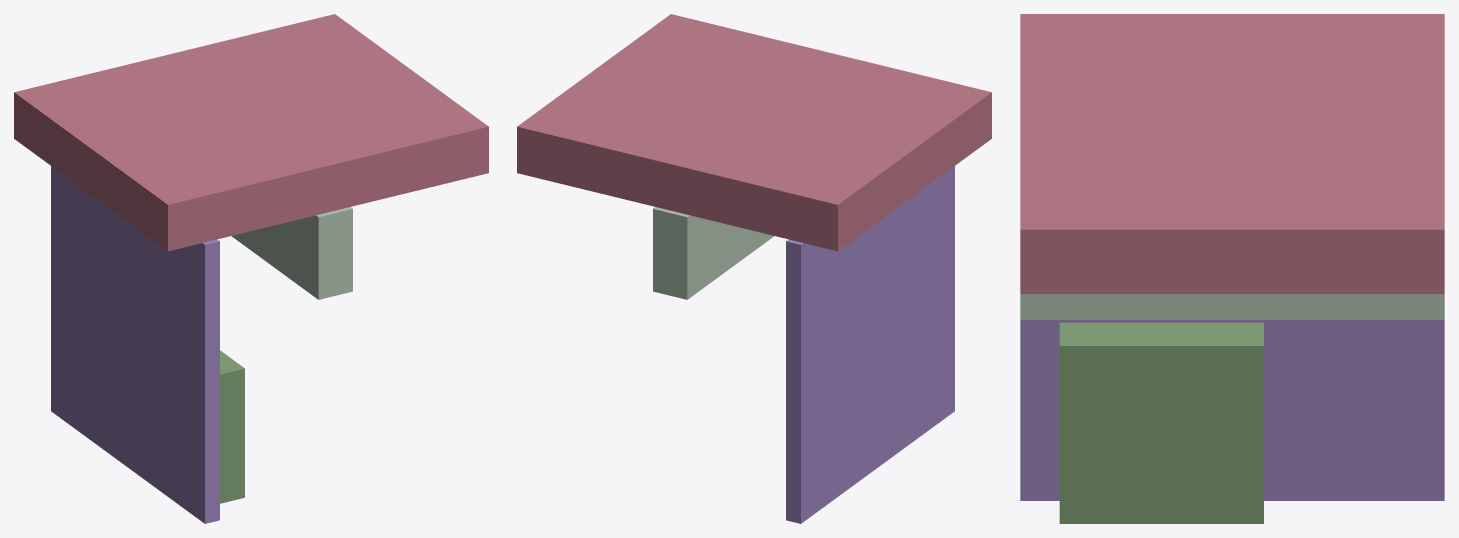
The model's file is 199529_pred.glb.
The picture shows the model from 3 angles, left to right: view 1: azimuth 30°, elevation 25°; view 2: azimuth 150°, elevation 25°; view 3: azimuth 270°, elevation 25°; orthographic projection. The views are drawn at different scales.
Parts seen in each view (by area): view 1: world; view 2: world; view 3: world.
Boxes of the visible parts, x1=… form: world: x1=14, y1=14, x2=488, y2=523; world: x1=517, y1=14, x2=991, y2=523; world: x1=1020, y1=14, x2=1444, y2=523.
Size of the model in its own units: 6.5 by 6.35 by 5.4.
